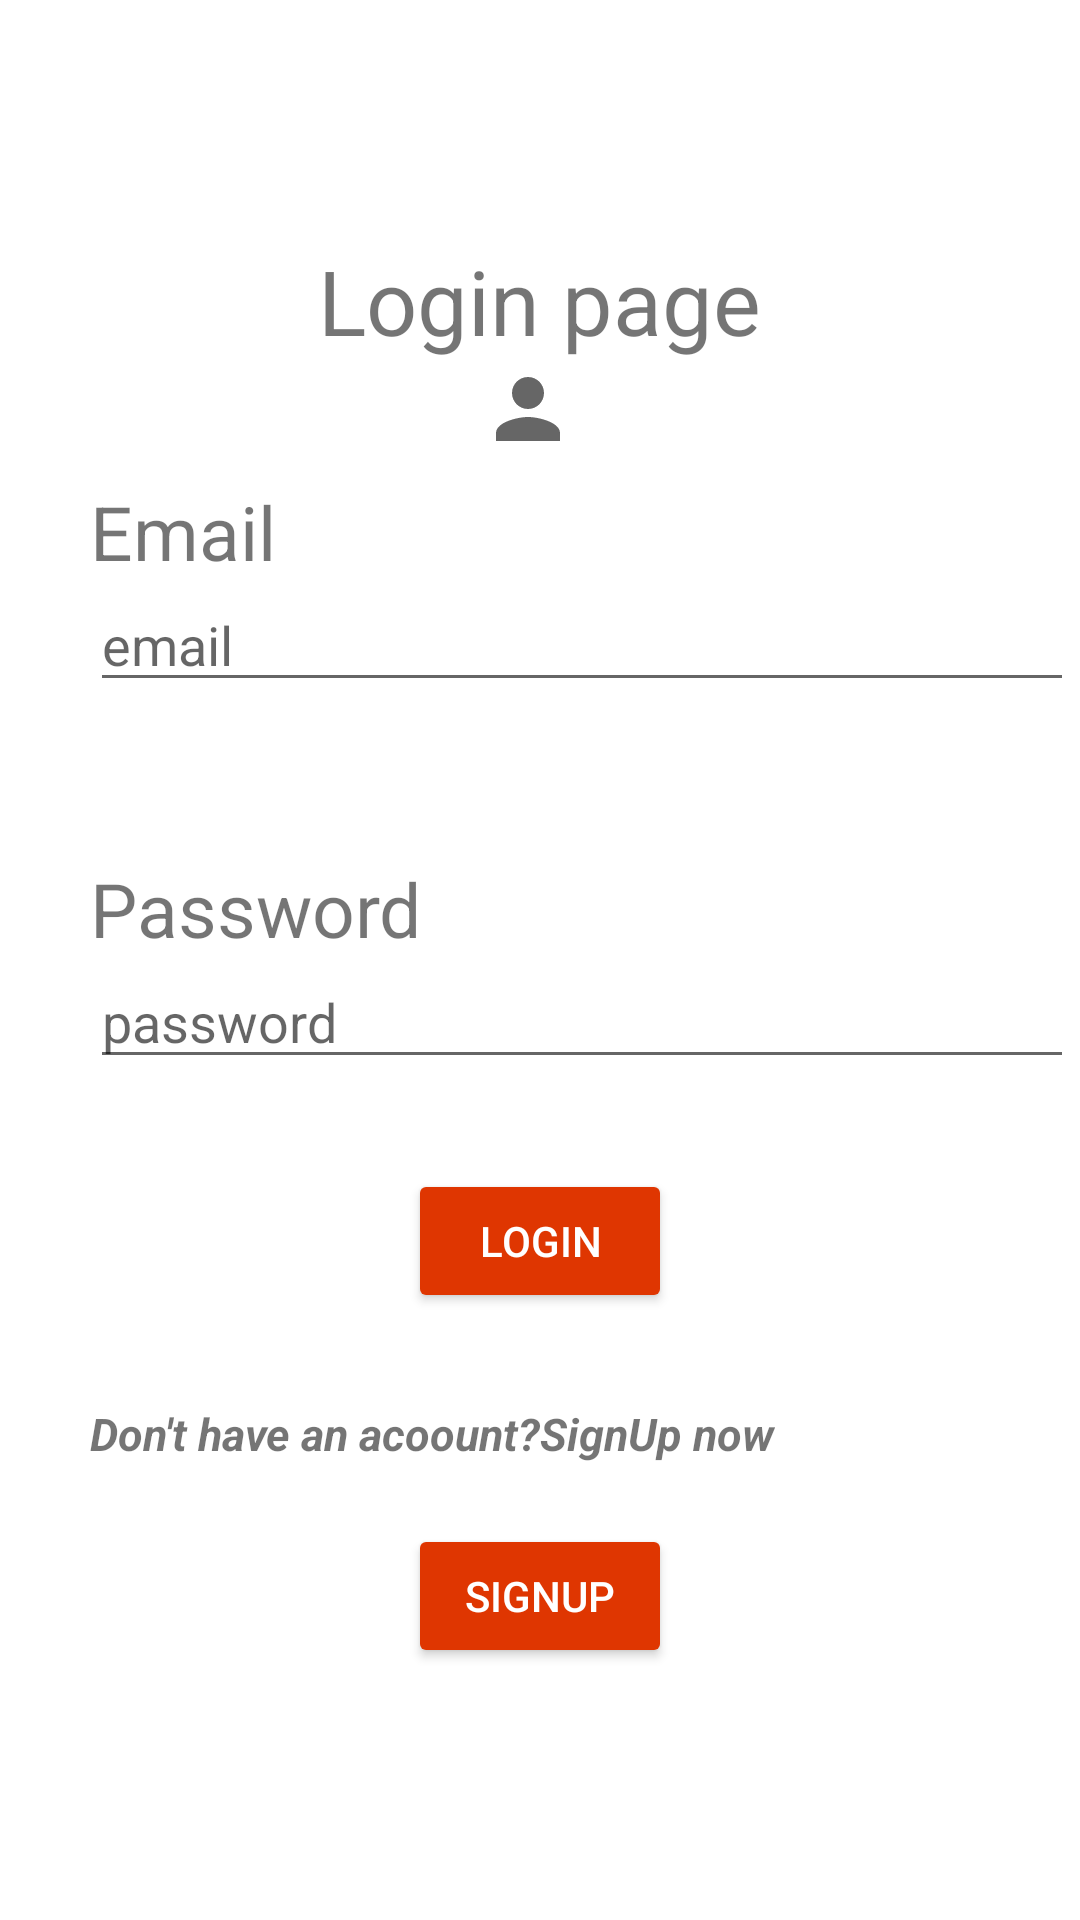

Icon bounding boxes for this 1080px×1920px phone screenshot, format [left=x1, top=y1, right=x2, bottom=y2]:
person: [left=496, top=377, right=560, bottom=441]
